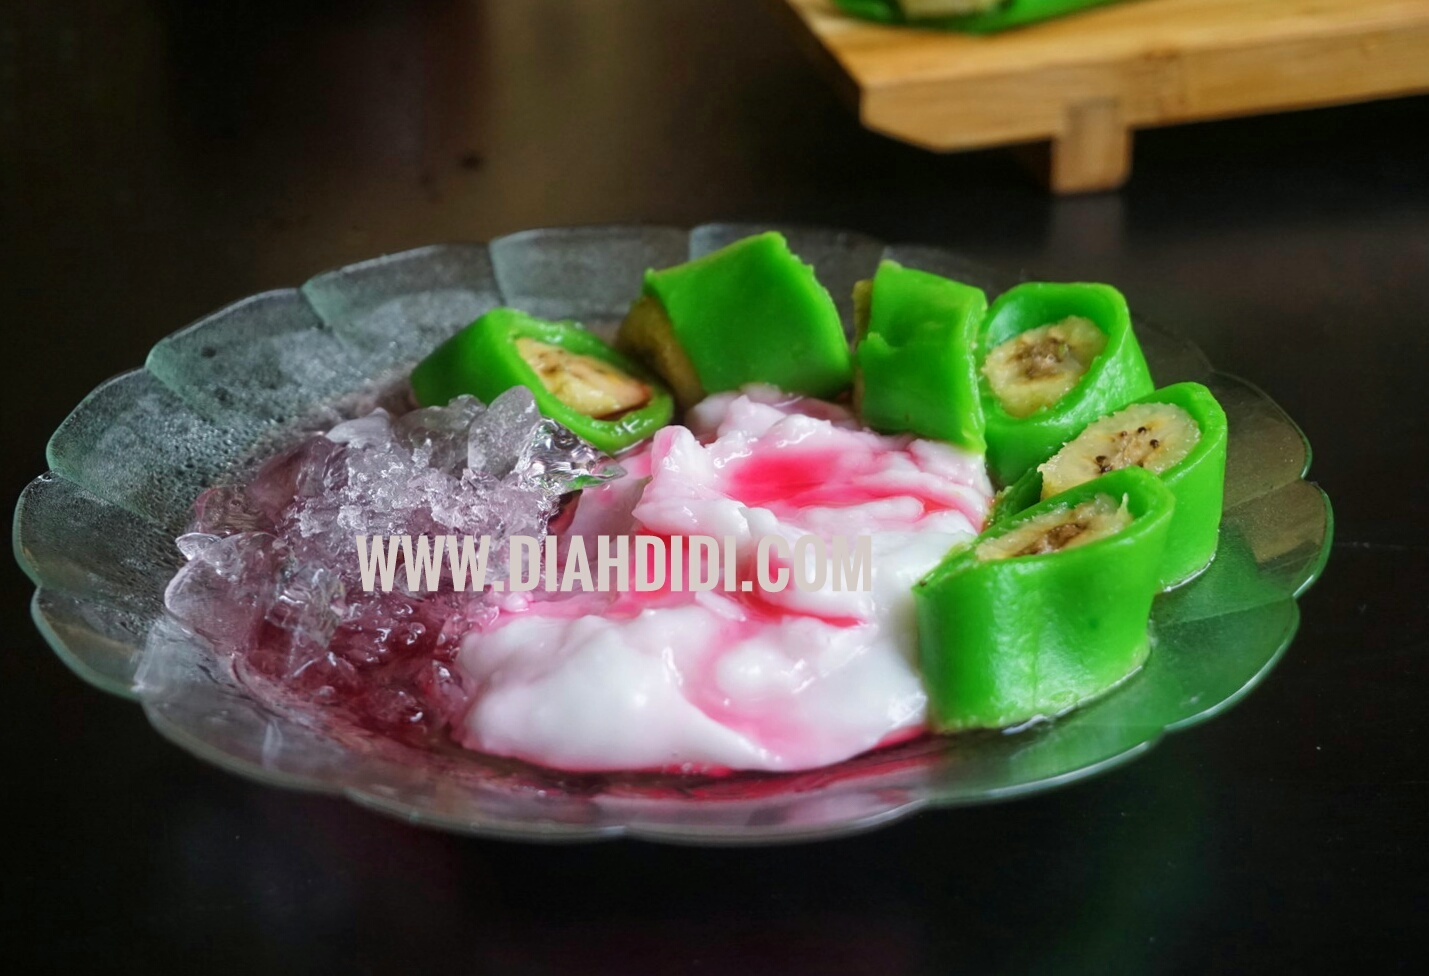es_pisang_ijo: (254, 245, 1218, 769)
